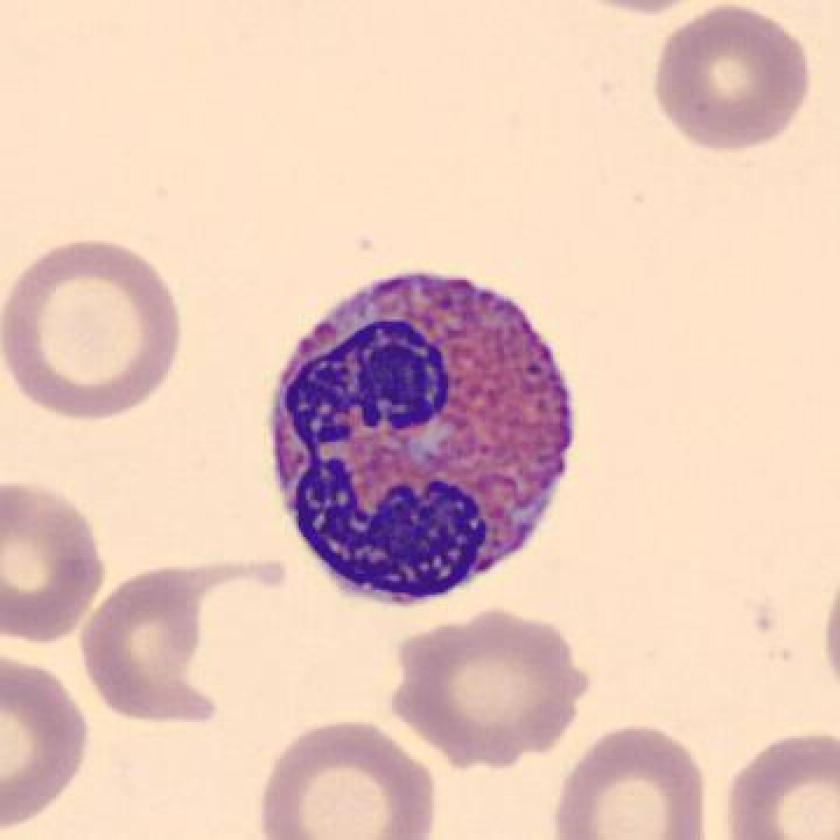eosinophil: (260, 263, 594, 617)
